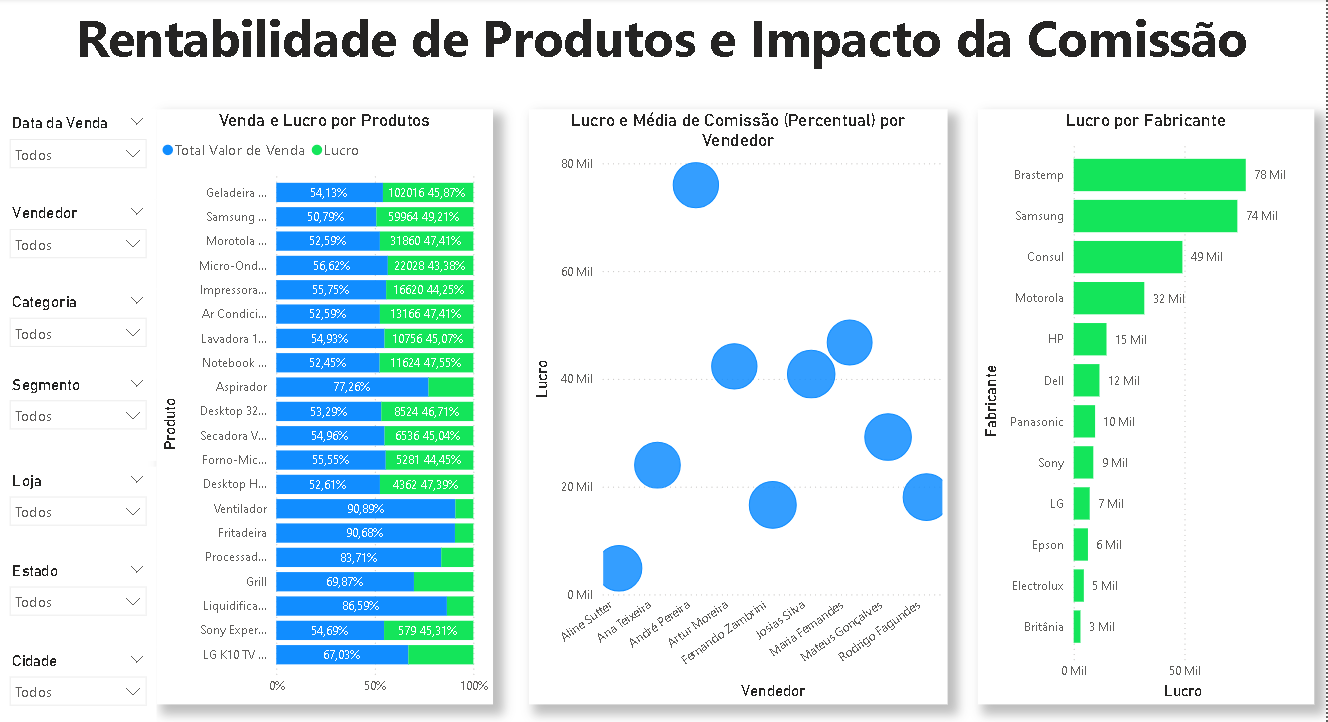

This screenshot's page, from the dashboard's own definition file:
{"tool":"powerbi","page":{"name":"Rentabilidade de Produtos e Impacto da Comissão","canvas":[1280,720],"ordinal":2},"visuals":[{"type":"hundredPercentStackedBarChart","title":"Venda e Lucro por Produtos","fields":{"Y":["Sum(Vendas.ValorVenda)","Vendas.Lucro"],"Category":["Vendas.Produto"]},"box":[152,107.4,325,574.3],"z":0},{"type":"scatterChart","fields":{"X":["Vendas.Vendedor"],"Y":["Vendas.Lucro"],"Size":["Avg(Vendas.Comissão (Percentual))"]},"box":[511.5,107.4,404.2,574.3],"z":1000},{"type":"barChart","fields":{"Y":["Vendas.Lucro"],"Category":["Vendas.Fabricante"]},"box":[944.6,107.4,324.5,574.3],"z":2000},{"type":"textbox","box":[0,0,1280,76],"z":3000},{"type":"slicer","title":"Data Vendas","fields":{"Values":["Vendas.Data Venda","Vendas.Data Venda.Variation.Hierarquia de datas.Ano","Vendas.Data Venda.Variation.Hierarquia de datas.Mês"]},"box":[0,107.4,152,87],"z":4000},{"type":"slicer","fields":{"Values":["Vendas.Vendedor"]},"box":[0,194.2,152,87],"z":5000},{"type":"slicer","fields":{"Values":["Vendas.Categoria"]},"box":[0,279.9,152,87],"z":6000},{"type":"slicer","fields":{"Values":["Vendas.Segmento"]},"box":[0,359.5,152,87],"z":7000},{"type":"slicer","fields":{"Values":["Vendas.Loja"]},"box":[0,452.4,152,86.9],"z":8000},{"type":"slicer","fields":{"Values":["Vendas.Estado"]},"box":[0,539.3,152,86.9],"z":9000},{"type":"slicer","fields":{"Values":["Vendas.Cidade"]},"box":[0,626.1,152,82],"z":10000}]}

Visuals, with their boxes on the page's 1280x720 design canvas (x1, y1, x2, y2). These are canvas units, not pixel positions in the 1328x722 screenshot, which may show the page scaled, cropped or inside an application window:
"Venda e Lucro por Produtos" hundredPercentStackedBarChart: x1=152, y1=107, x2=477, y2=682
scatterChart - Vendas.Vendedor x Vendas.Lucro: x1=512, y1=107, x2=916, y2=682
barChart - Vendas.Lucro x Vendas.Fabricante: x1=945, y1=107, x2=1269, y2=682
textbox: x1=0, y1=0, x2=1280, y2=76
"Data Vendas" slicer: x1=0, y1=107, x2=152, y2=194
slicer - Vendas.Vendedor: x1=0, y1=194, x2=152, y2=281
slicer - Vendas.Categoria: x1=0, y1=280, x2=152, y2=367
slicer - Vendas.Segmento: x1=0, y1=360, x2=152, y2=446
slicer - Vendas.Loja: x1=0, y1=452, x2=152, y2=539
slicer - Vendas.Estado: x1=0, y1=539, x2=152, y2=626
slicer - Vendas.Cidade: x1=0, y1=626, x2=152, y2=708
